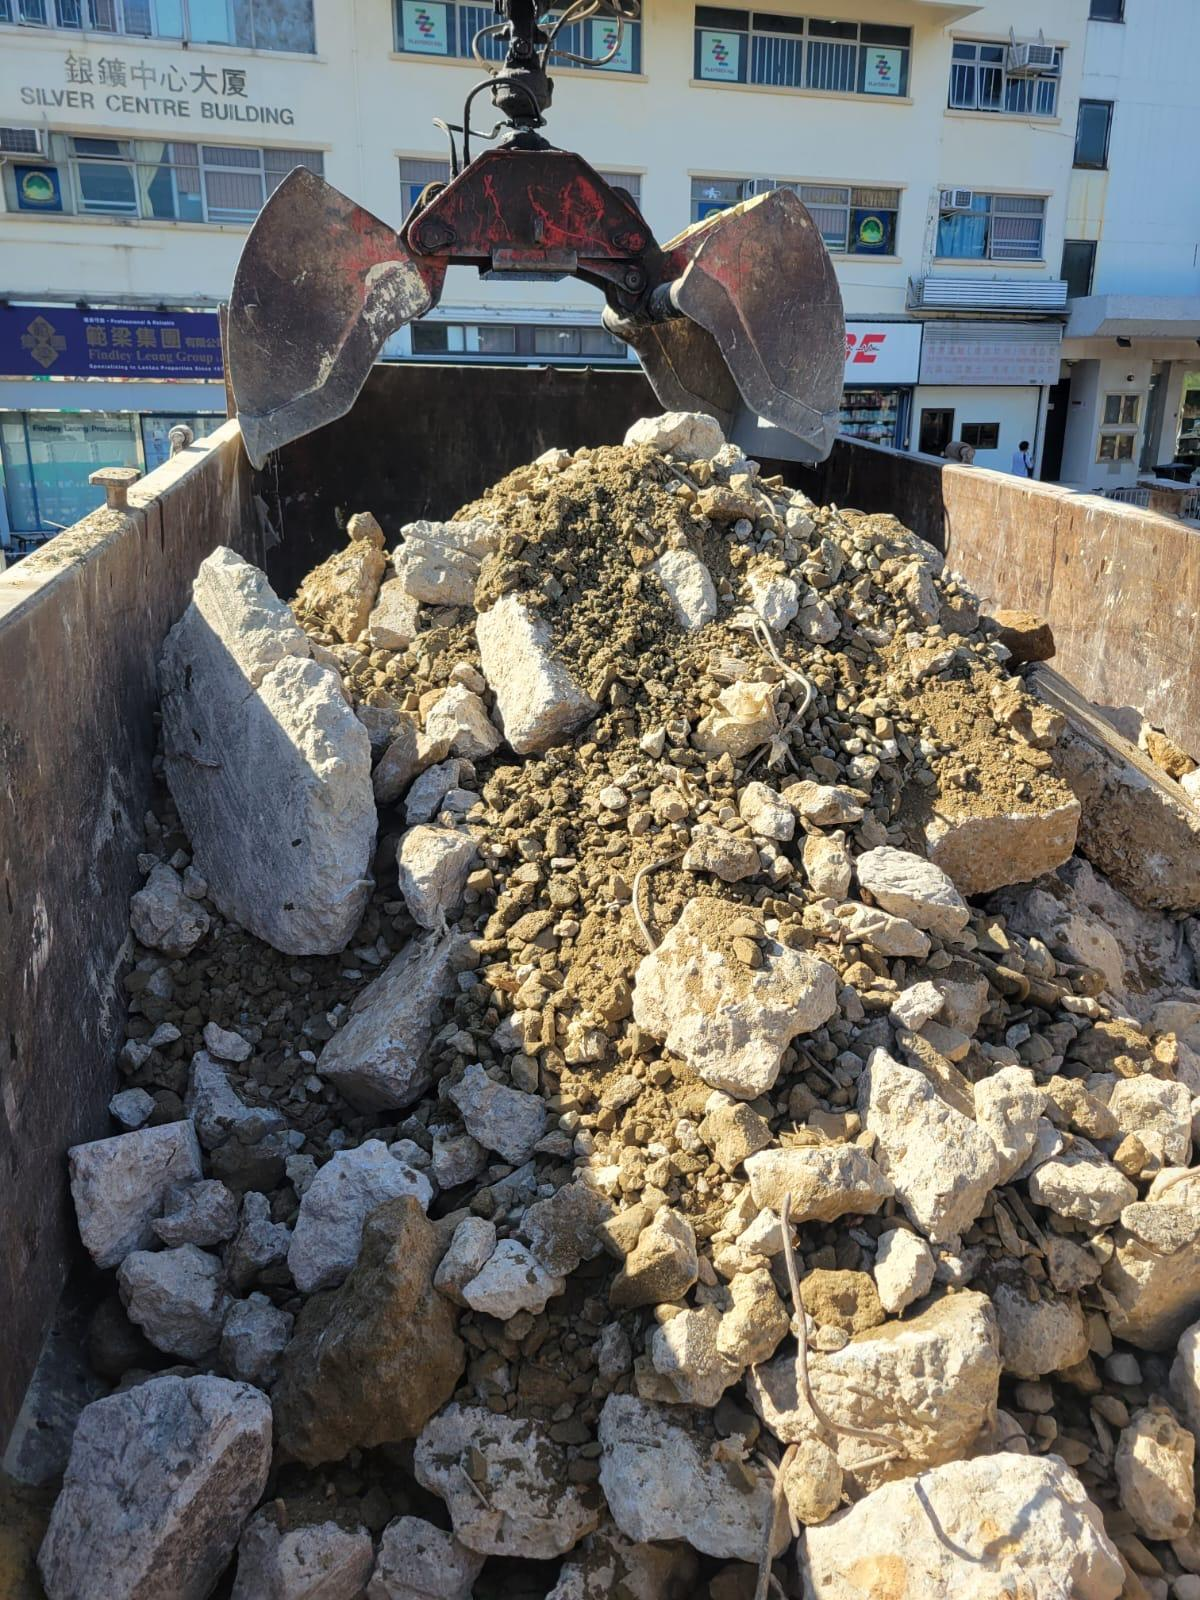dry: (61, 430, 1200, 1570)
